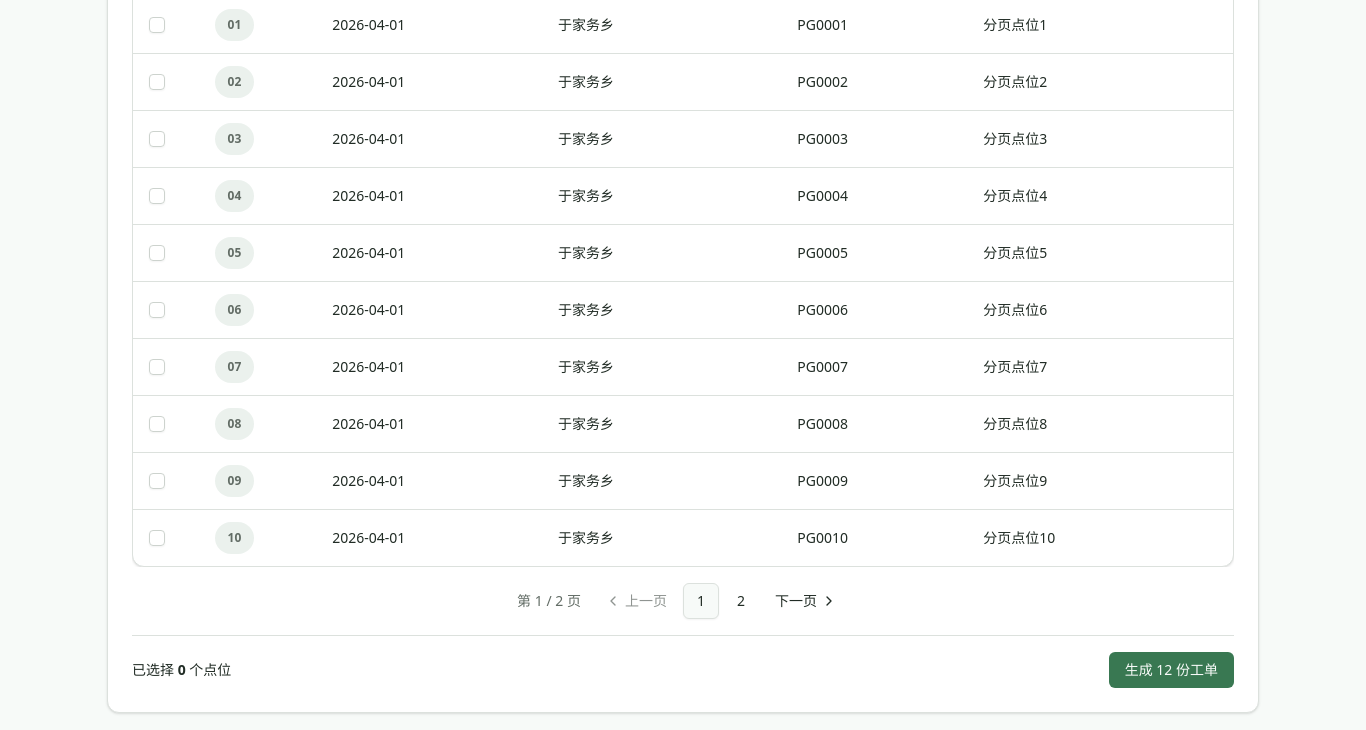
Test: WorkOrderView › 点位清单分页每页最多 10 条，可翻页并重置到第一页
(page scrolled)
expect the text with test id "workorder-page-status" reads "第 1 / 2 页": met, box [517,591,581,610]
expect the button with test id "workorder-page-prev" is disabled: met, box [593,583,679,619]
Click the button with test id "workorder-page-next".
click(806, 601)  # box [763,583,849,619]
(page scrolled)
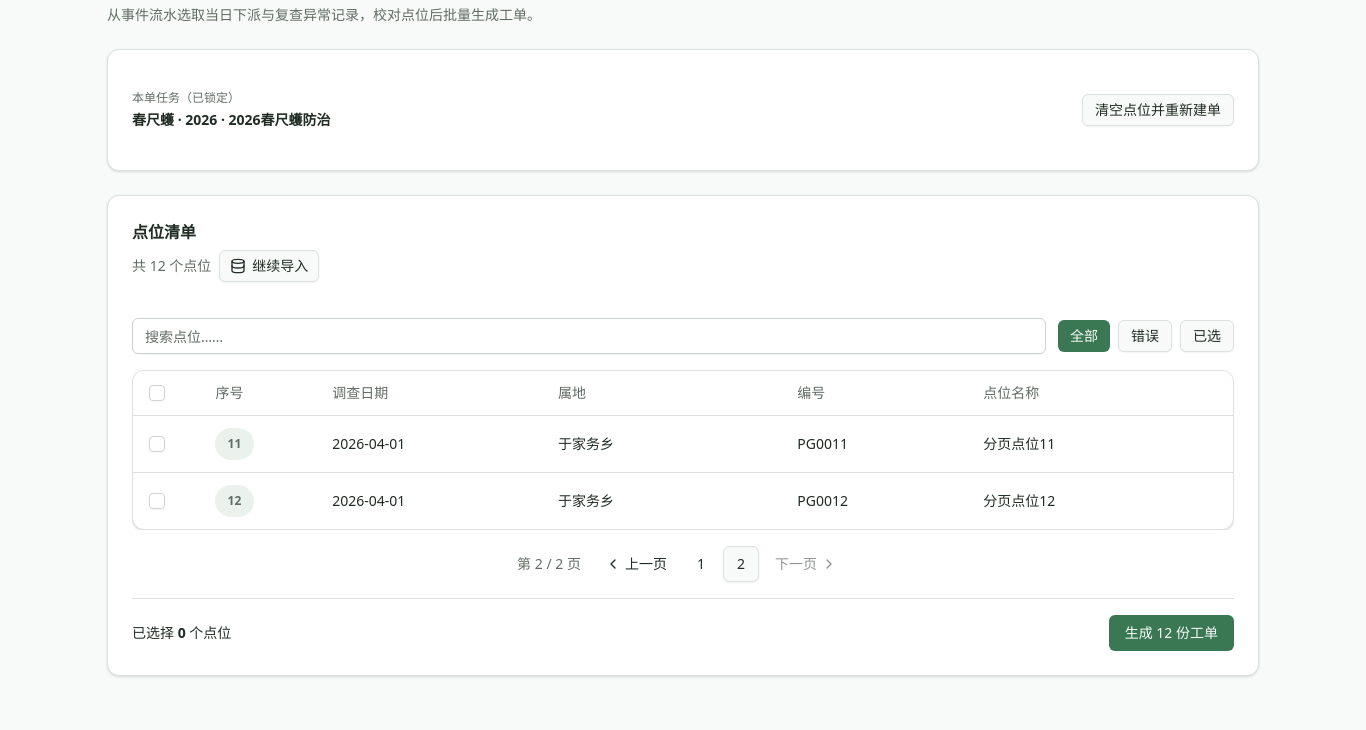
expect the text "PG0011" is shown: met, box [797,434,848,454]
expect the text with test id "workorder-page-status" reads "第 2 / 2 页": met, box [517,554,581,573]
expect the button with test id "workorder-page-next" is disabled: met, box [763,546,849,582]
Type "分页点位1" into the search field with test id "workorder-search".
click(589, 336); type("分页点位1")  # box [132,318,1046,354]
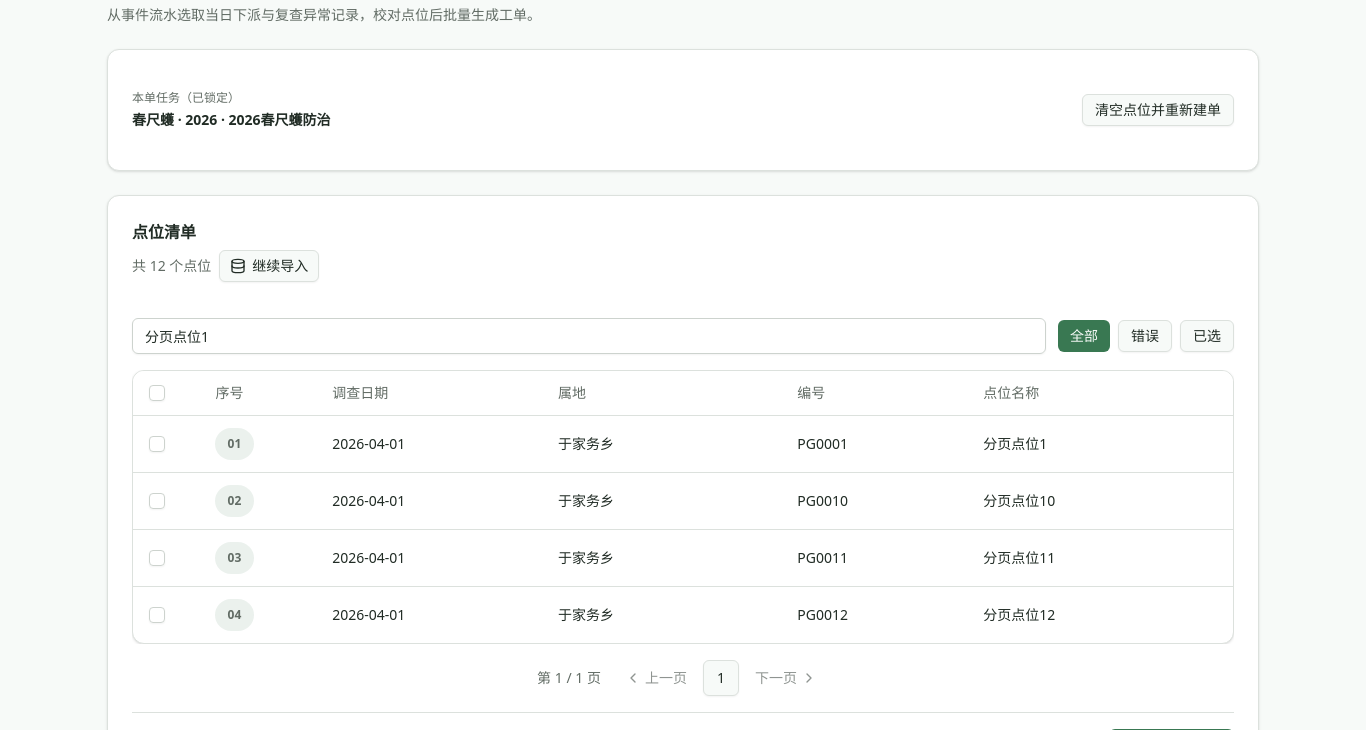
expect the text with test id "workorder-page-status" shows "第 1 /": met, box [537,668,601,687]
